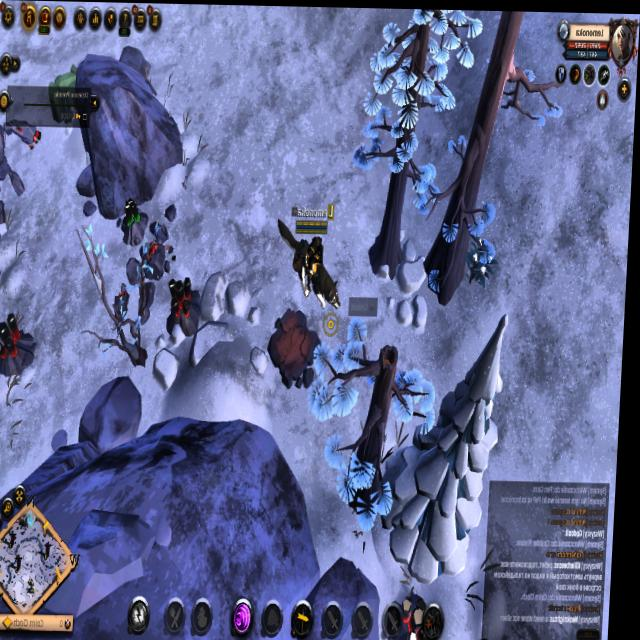fiber tier 4: (466, 232, 500, 288)
ore tier 3: (120, 195, 151, 245)
ore tier 5: (0, 310, 40, 380), (167, 272, 204, 338)
